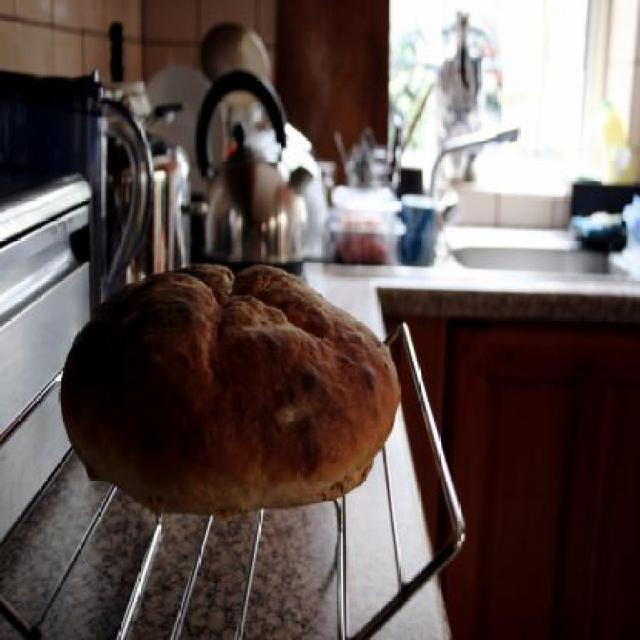Bread: (53, 250, 390, 539)
